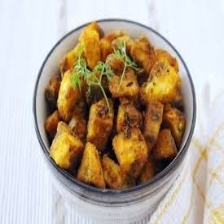sabzi: (37, 17, 198, 198)
